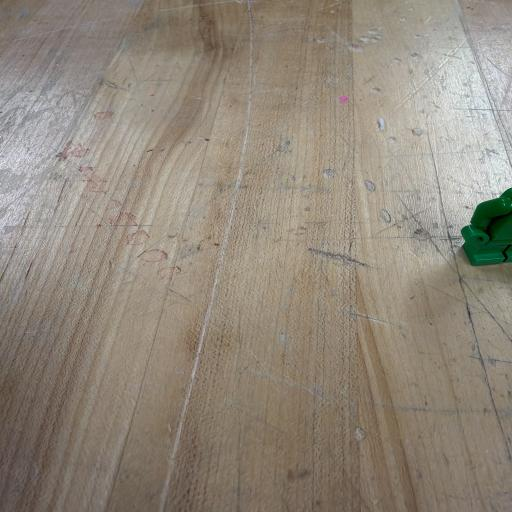Green-Lego: (461, 188, 512, 266)
